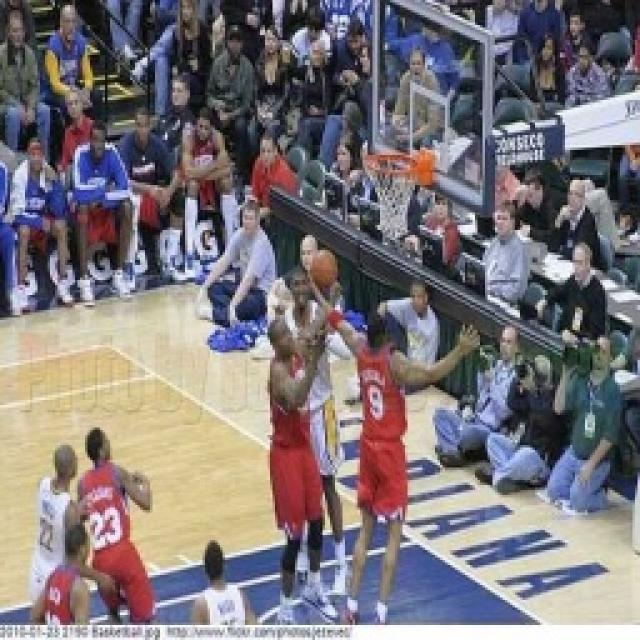rim: (306, 240, 344, 294)
